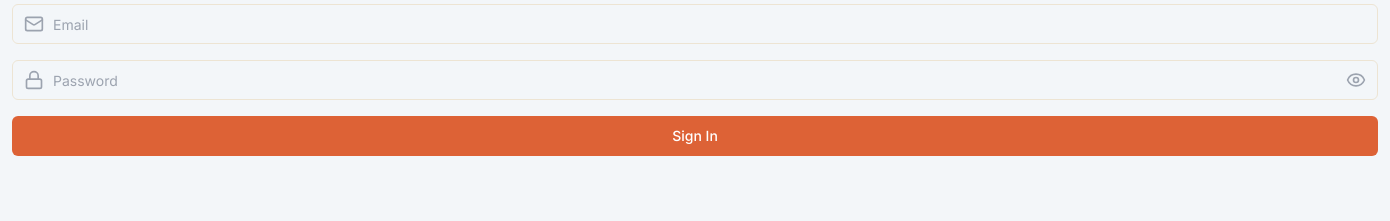
Scenario: SignInForm › validates required fields with proper error messages
The width and height of the screenshot is (1390, 221).
# Type and delete in email field to trigger validation
Type "a" into the field with placeholder "Email" at (695, 24), box x1=12 y1=4 x2=1378 y2=44
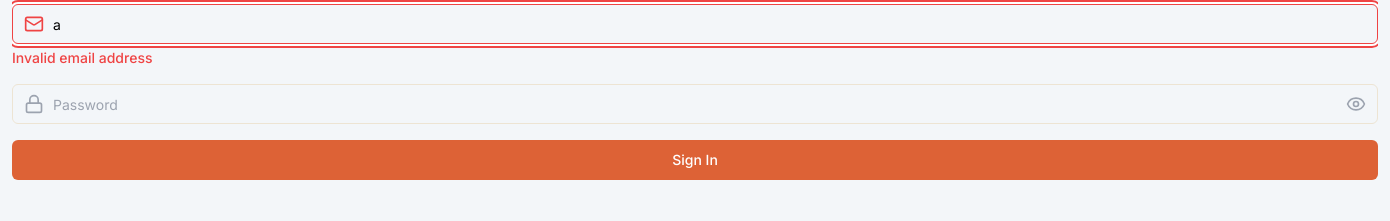
Clear the field with placeholder "Email" at (695, 24), box x1=12 y1=4 x2=1378 y2=44
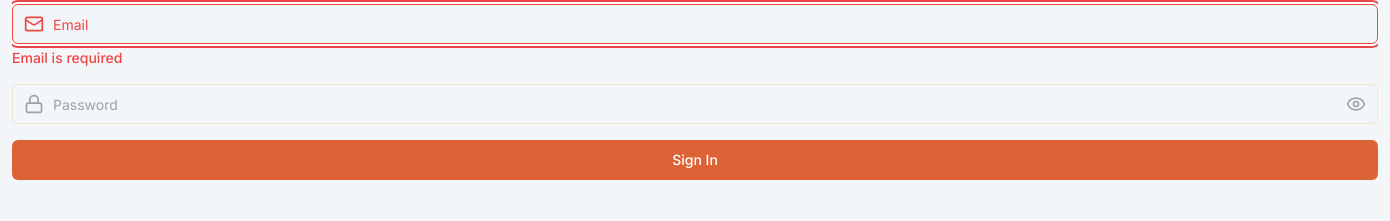
# Type and delete in password field to trigger validation
Type "a" into the password field with placeholder "Password" at (695, 104), box x1=12 y1=84 x2=1378 y2=124
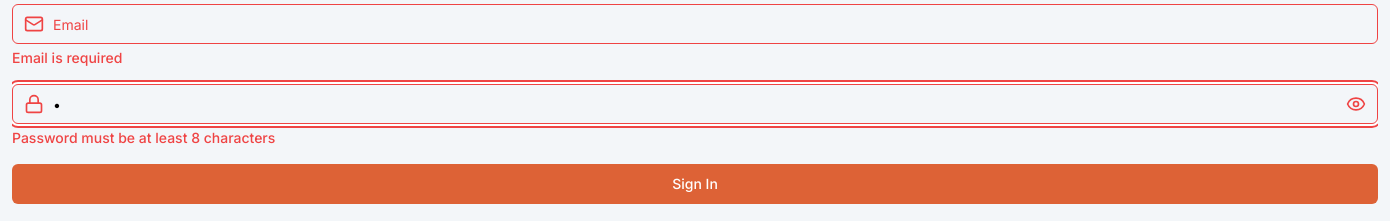
Clear the password field with placeholder "Password" at (695, 104), box x1=12 y1=84 x2=1378 y2=124
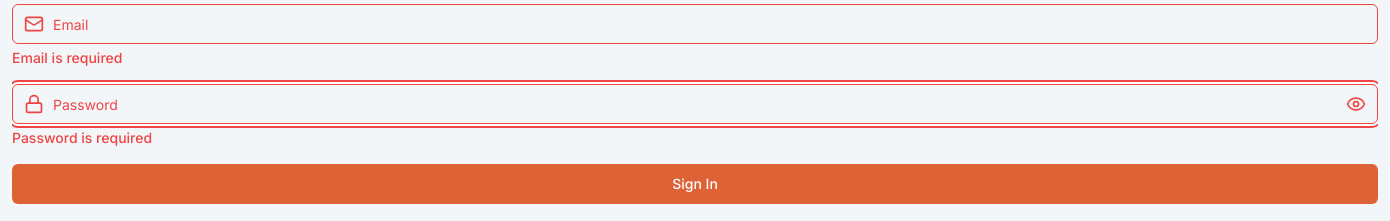
expect the text "Email is required" is shown: met, box x1=12 y1=49 x2=122 y2=66
expect the text "Password is required" is shown: met, box x1=12 y1=129 x2=152 y2=146
